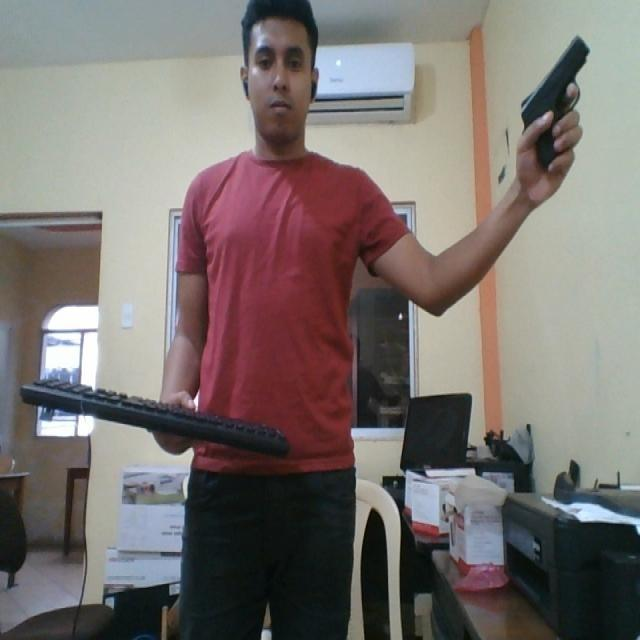weapon: (518, 32, 593, 182)
